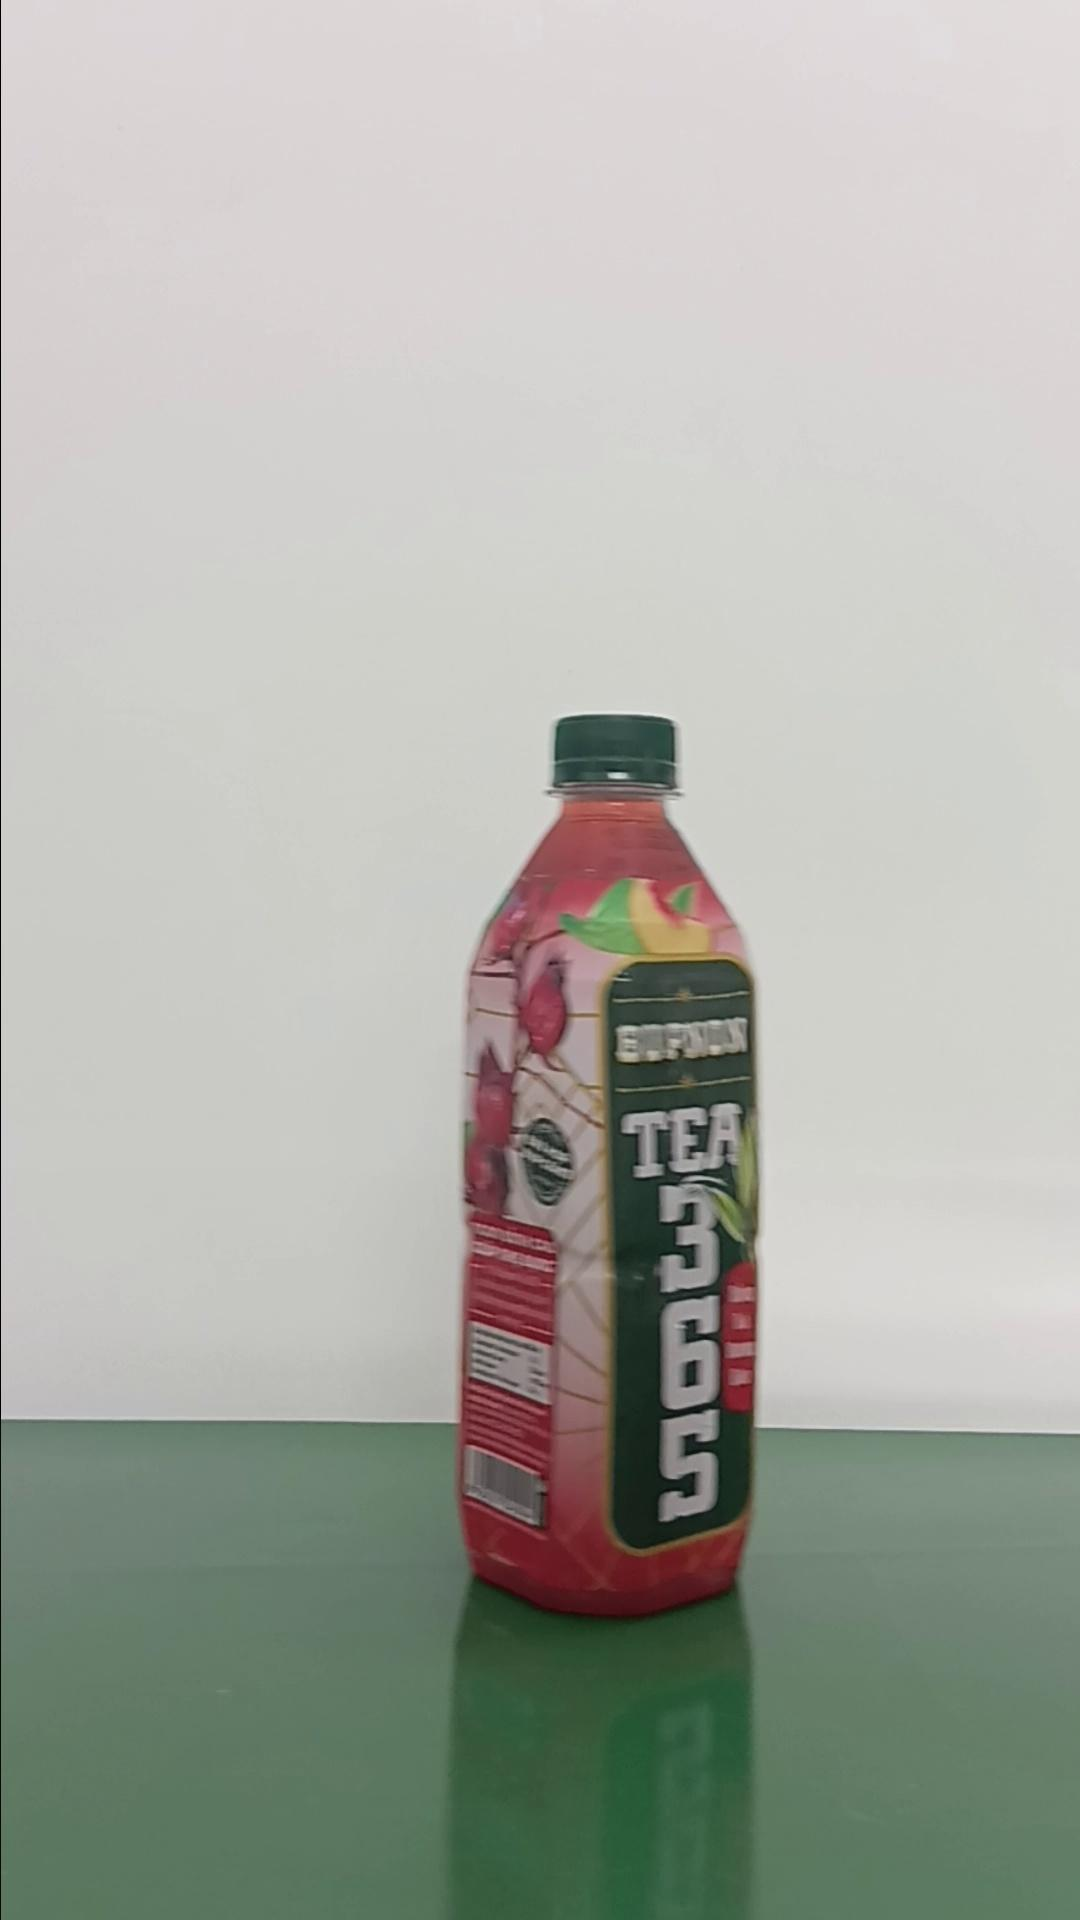khong loi: (451, 709, 764, 1619)
